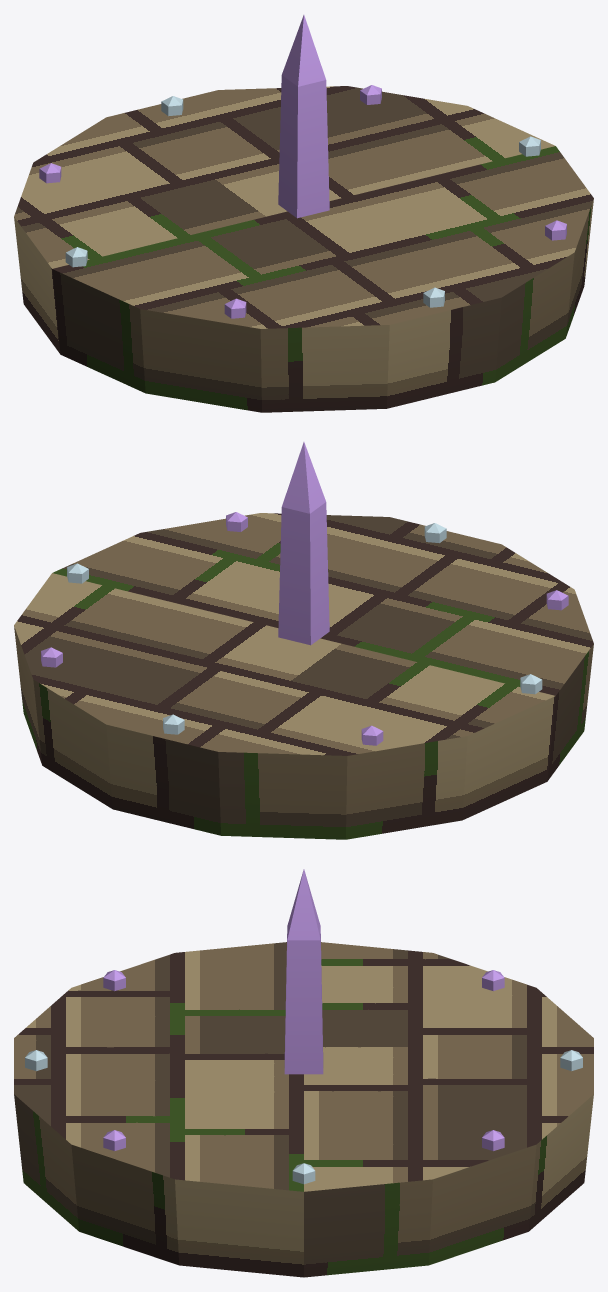
File: moon_well.glb
3 views of the same model, one above another, from view 1: azimuth 30°, elevation 25°; view 2: azimuth 150°, elevation 25°; view 3: azimuth 270°, elevation 25° (orthographic). The views are drawn at different scales.
Parts seen in each view (by area): view 1: moon_well; view 2: moon_well; view 3: moon_well.
Part boxes in pixels (x1,y1,x2,y2): moon_well: (14,15,593,412); moon_well: (14,442,593,839); moon_well: (14,869,593,1277).
Bounding box in the file's own units: 3 × 1.6 × 2.92.
Materials: 2 (1 with a texture image).
